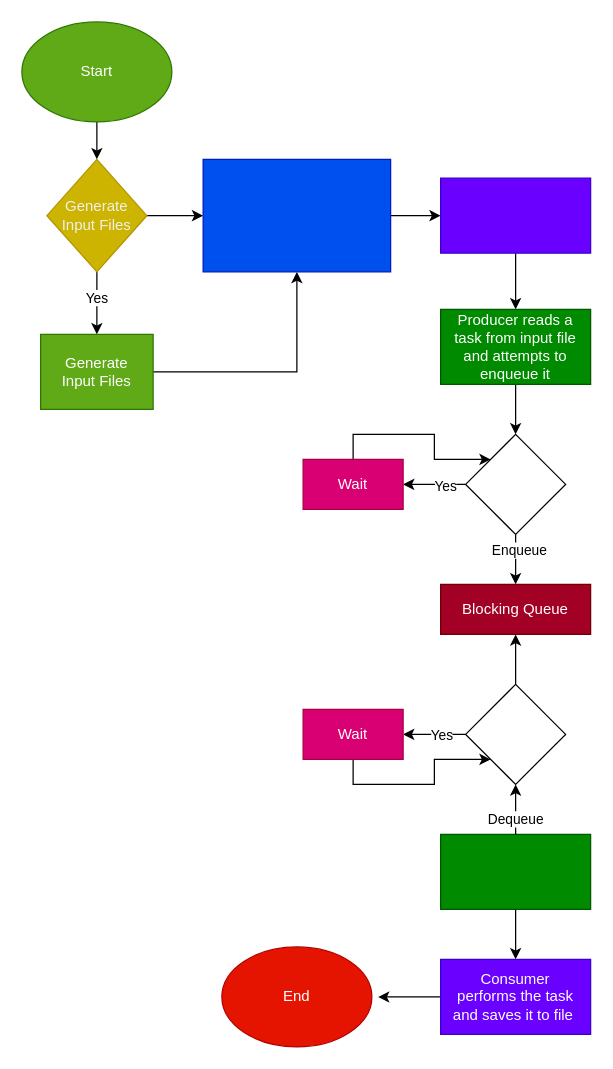
Image size: 613x1069. Some labels were removed from this diagram. Each missing label, with the centre of its shape:
Consumer attempts to fetch task from queue: the point at 515,871
Define # of producers, consumers and max capacity of the queue: the point at 296,215
Initialize and start the producers and consumers: the point at 515,215
Queue at capacity?: the point at 515,483
Queue is empty?: the point at 515,733
